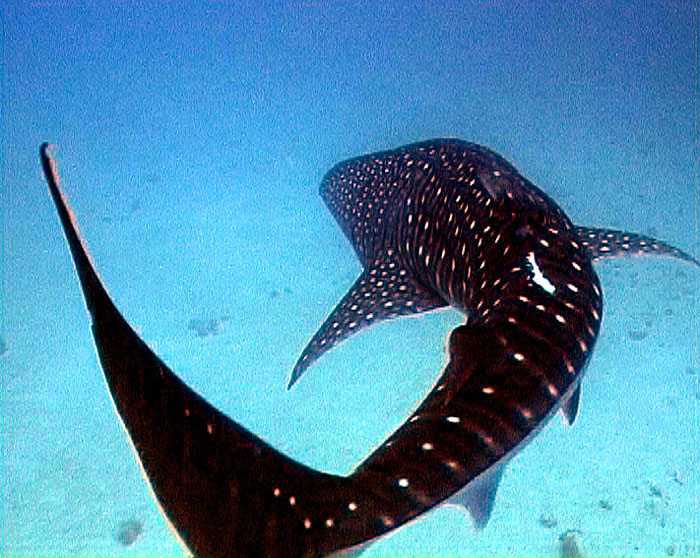Rhincodon_typusw: (25, 111, 665, 558)
